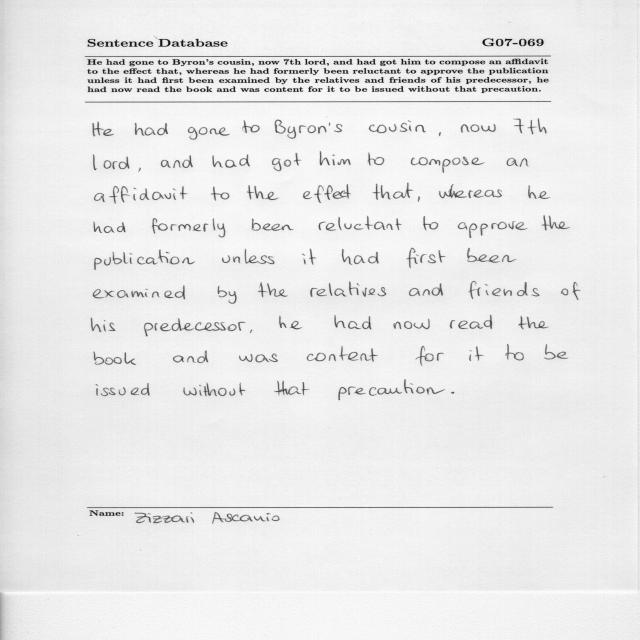word: (338, 380, 445, 401), (95, 249, 195, 270), (144, 319, 246, 337), (95, 186, 188, 204), (152, 218, 225, 238), (275, 119, 342, 139), (93, 286, 185, 300), (469, 281, 540, 299), (411, 156, 485, 173), (319, 216, 402, 231), (310, 281, 386, 297), (458, 221, 527, 238), (307, 346, 378, 362), (303, 184, 351, 203), (439, 184, 502, 198), (184, 383, 246, 396), (222, 249, 274, 264), (407, 248, 446, 268), (467, 248, 517, 263), (369, 121, 426, 134), (96, 383, 150, 396), (373, 183, 413, 200), (450, 315, 492, 329), (94, 351, 136, 365), (94, 155, 130, 171), (342, 249, 378, 265), (416, 346, 444, 366), (335, 315, 372, 330), (188, 127, 230, 140), (212, 154, 250, 168), (274, 381, 309, 396), (272, 153, 301, 171), (252, 219, 294, 231), (514, 119, 547, 134), (247, 185, 279, 200), (258, 282, 288, 297), (409, 283, 443, 296), (320, 152, 351, 166), (135, 123, 168, 136), (542, 216, 570, 231), (173, 351, 208, 363), (161, 155, 193, 168), (544, 344, 568, 360), (519, 316, 548, 329), (393, 319, 430, 329), (561, 282, 581, 300), (239, 354, 278, 363), (91, 318, 116, 332), (218, 286, 237, 304), (94, 222, 125, 233), (505, 344, 524, 361), (279, 316, 302, 330), (93, 122, 114, 137), (461, 124, 496, 133), (528, 185, 550, 199), (211, 187, 230, 201), (302, 248, 316, 265), (242, 121, 260, 134), (469, 346, 484, 361), (368, 153, 385, 166), (423, 216, 438, 230), (507, 158, 529, 167), (138, 168, 141, 172), (418, 196, 420, 202), (439, 132, 441, 136), (250, 330, 252, 333), (451, 392, 454, 394)
